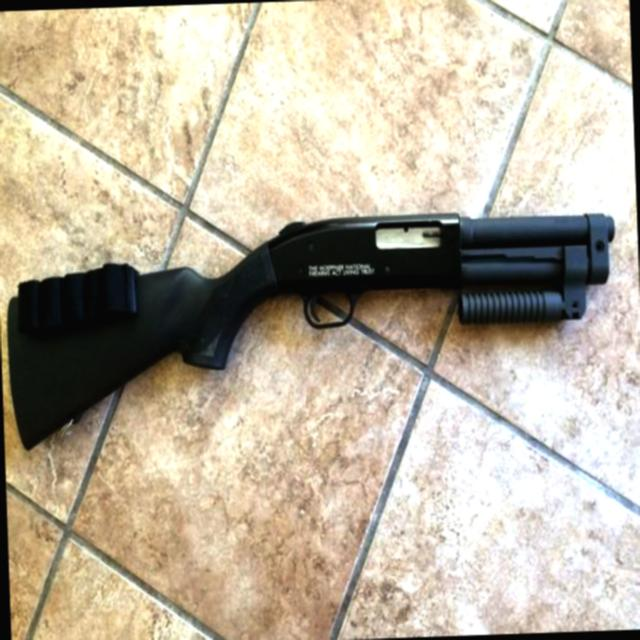shotgun: (0, 189, 627, 451)
